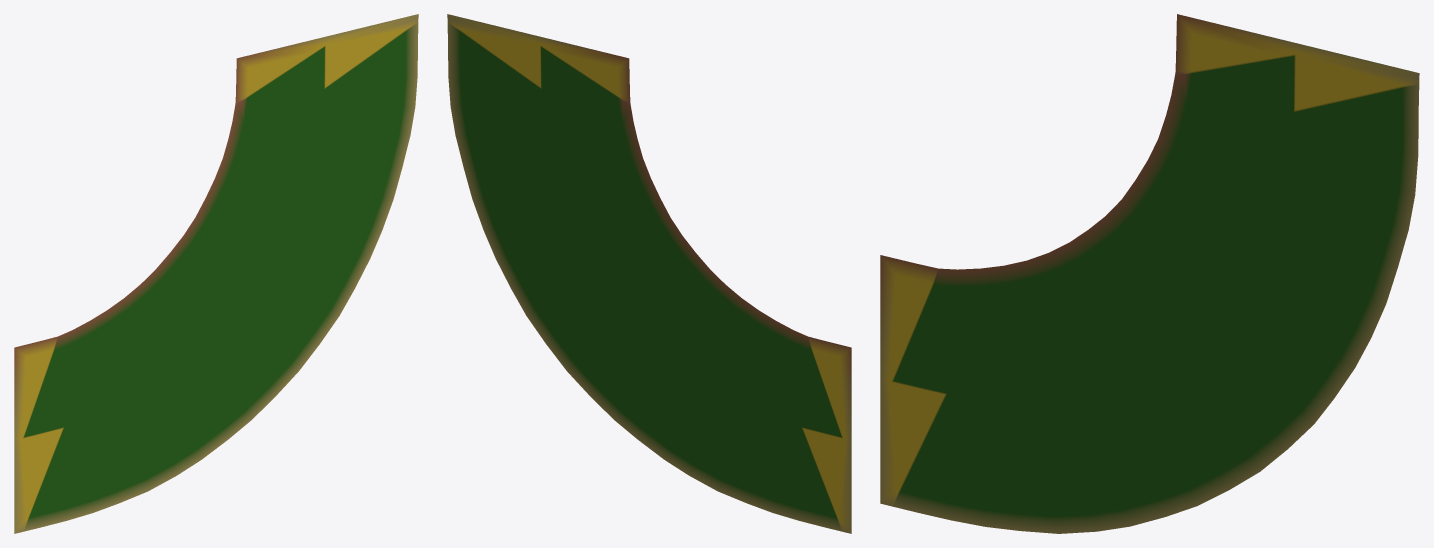
Rendered from SM_000397_w40h012_grass_2.fbx.
3 renders of one model, left to right at view 1: azimuth 30°, elevation 25°; view 2: azimuth 150°, elevation 25°; view 3: azimuth 330°, elevation 25°, orthographic. The views are drawn at different scales.
Visible parts, largest first — view 1: SM_000397.001; view 2: SM_000397.001; view 3: SM_000397.001.
Part boxes in pixels (left/top/right/bottom): SM_000397.001: left=14, top=14, right=418, bottom=533; SM_000397.001: left=447, top=14, right=851, bottom=533; SM_000397.001: left=880, top=14, right=1419, bottom=533.
Size of the model in its own units: 50.84 by 50.64 by 3.49e-09.
